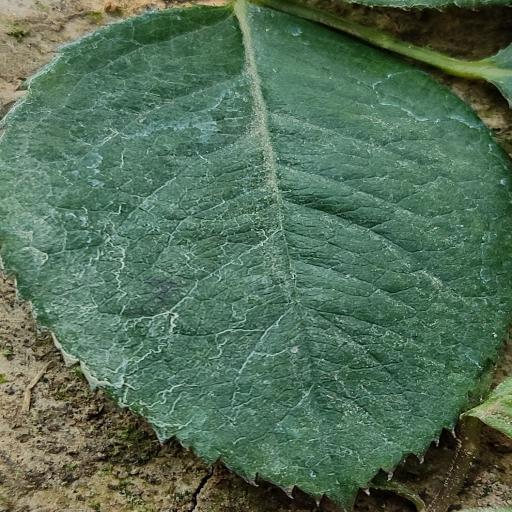healthy_leaf: (0, 3, 511, 507)
